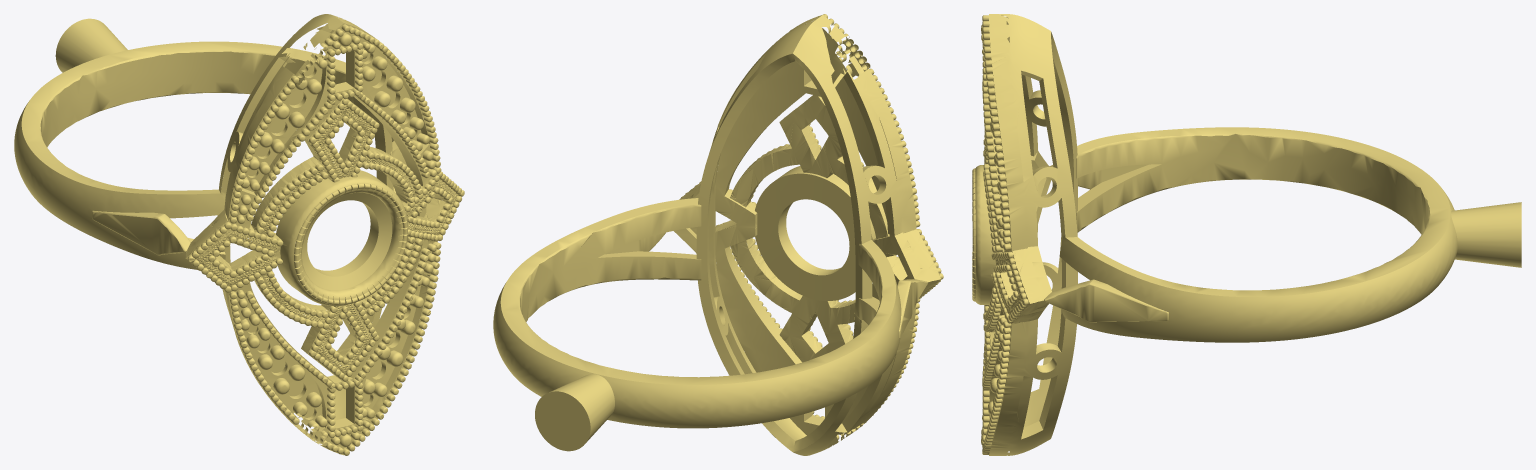
The picture shows the model from 3 angles, left to right: view 1: azimuth 30°, elevation 25°; view 2: azimuth 150°, elevation 25°; view 3: azimuth 270°, elevation 25°; orthographic projection. The views are drawn at different scales.
Parts seen in each view (by area): view 1: Renderer Node; view 2: Renderer Node; view 3: Renderer Node.
Part boxes in pixels (x1,y1,x2,y2): Renderer Node: (14,14,464,455); Renderer Node: (493,14,943,455); Renderer Node: (972,14,1521,455).
Size of the model in its own units: 19.47 by 22.88 by 25.77.
